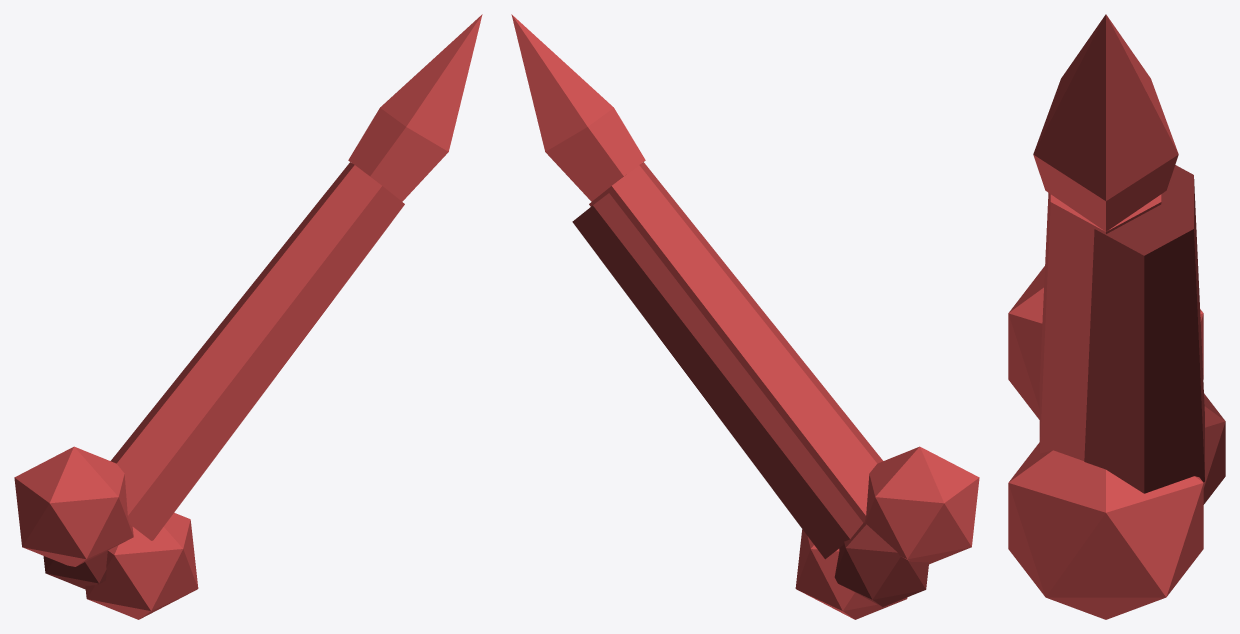
File: bone.glb
The picture shows the model from 3 angles, left to right: view 1: azimuth 30°, elevation 25°; view 2: azimuth 150°, elevation 25°; view 3: azimuth 270°, elevation 25°; orthographic projection. The views are drawn at different scales.
Visible parts, largest first — view 1: bone; view 2: bone; view 3: bone.
Boxes of the visible parts, x1,y1,x2,y2 form: bone: (14, 14, 482, 619); bone: (511, 14, 979, 619); bone: (1008, 14, 1225, 619).
Bounding box in the file's own units: 0.2852 × 0.309 × 0.0681.
